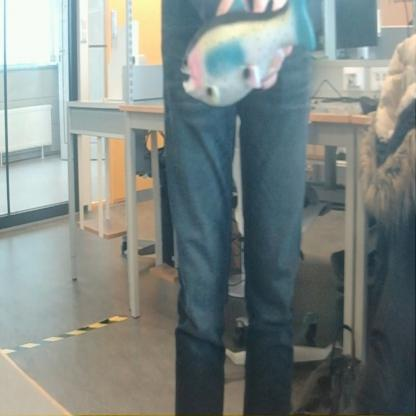rubberfish: (175, 0, 320, 116)
